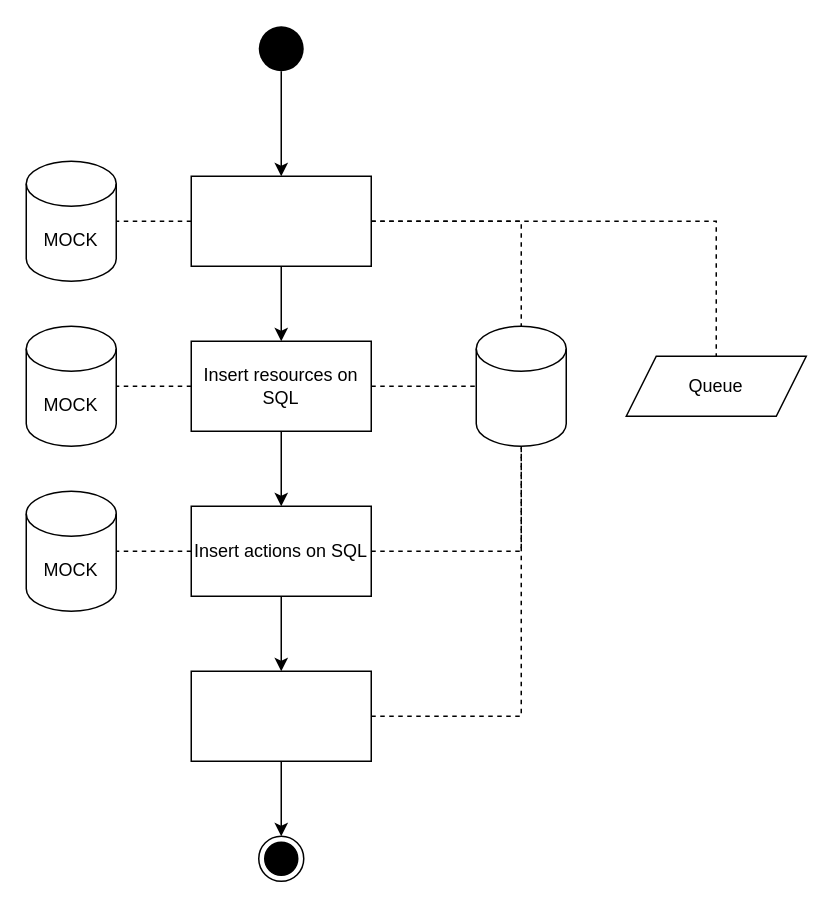
Some shapes in this 833 by 908 pixel diagram are drawn without their labels. Each missing label, with the centre of its shape:
Insert project on SQL and send message to Queue: point (280, 220)
SQL: point (520, 385)
Update project as ready on SQL: point (280, 715)
